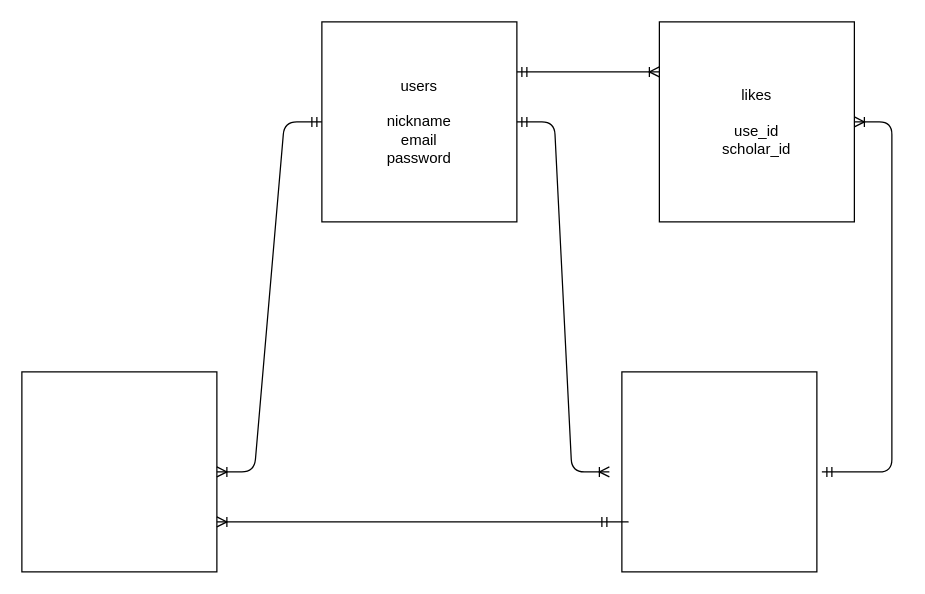
Image size: 925x594. Some labels were removed from this diagram. The centre of each missing label's shape, as x and y in pixels:
messages text user_id scholar_id: the point at 119,471
scholars title image text user_id category_id: the point at 719,471
